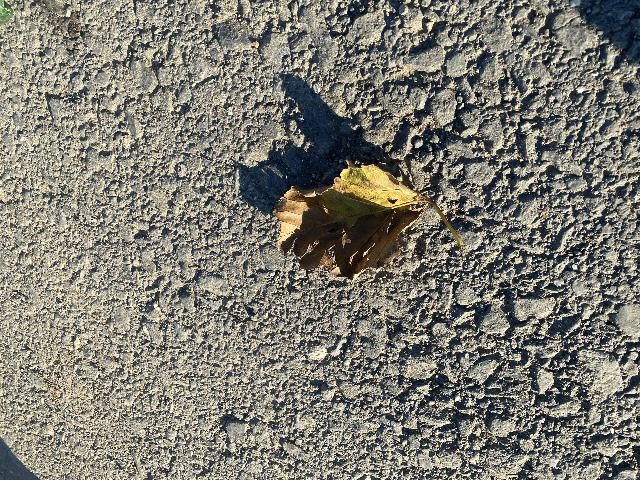Organik: (272, 161, 464, 277)
